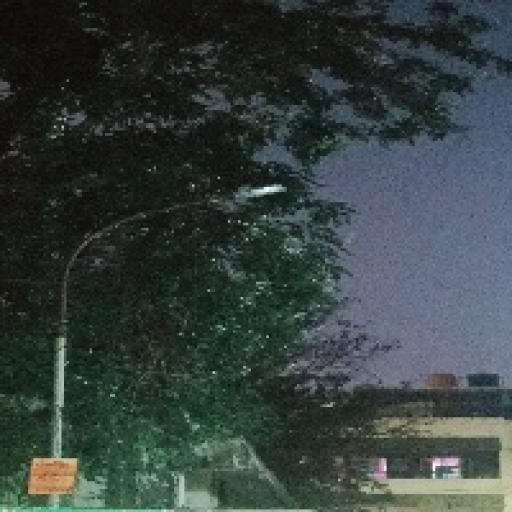Not Working: (226, 171, 292, 219)
